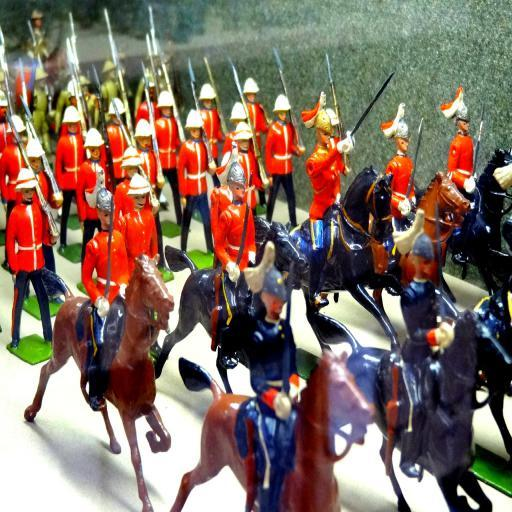Horse: (25, 145, 512, 512)
